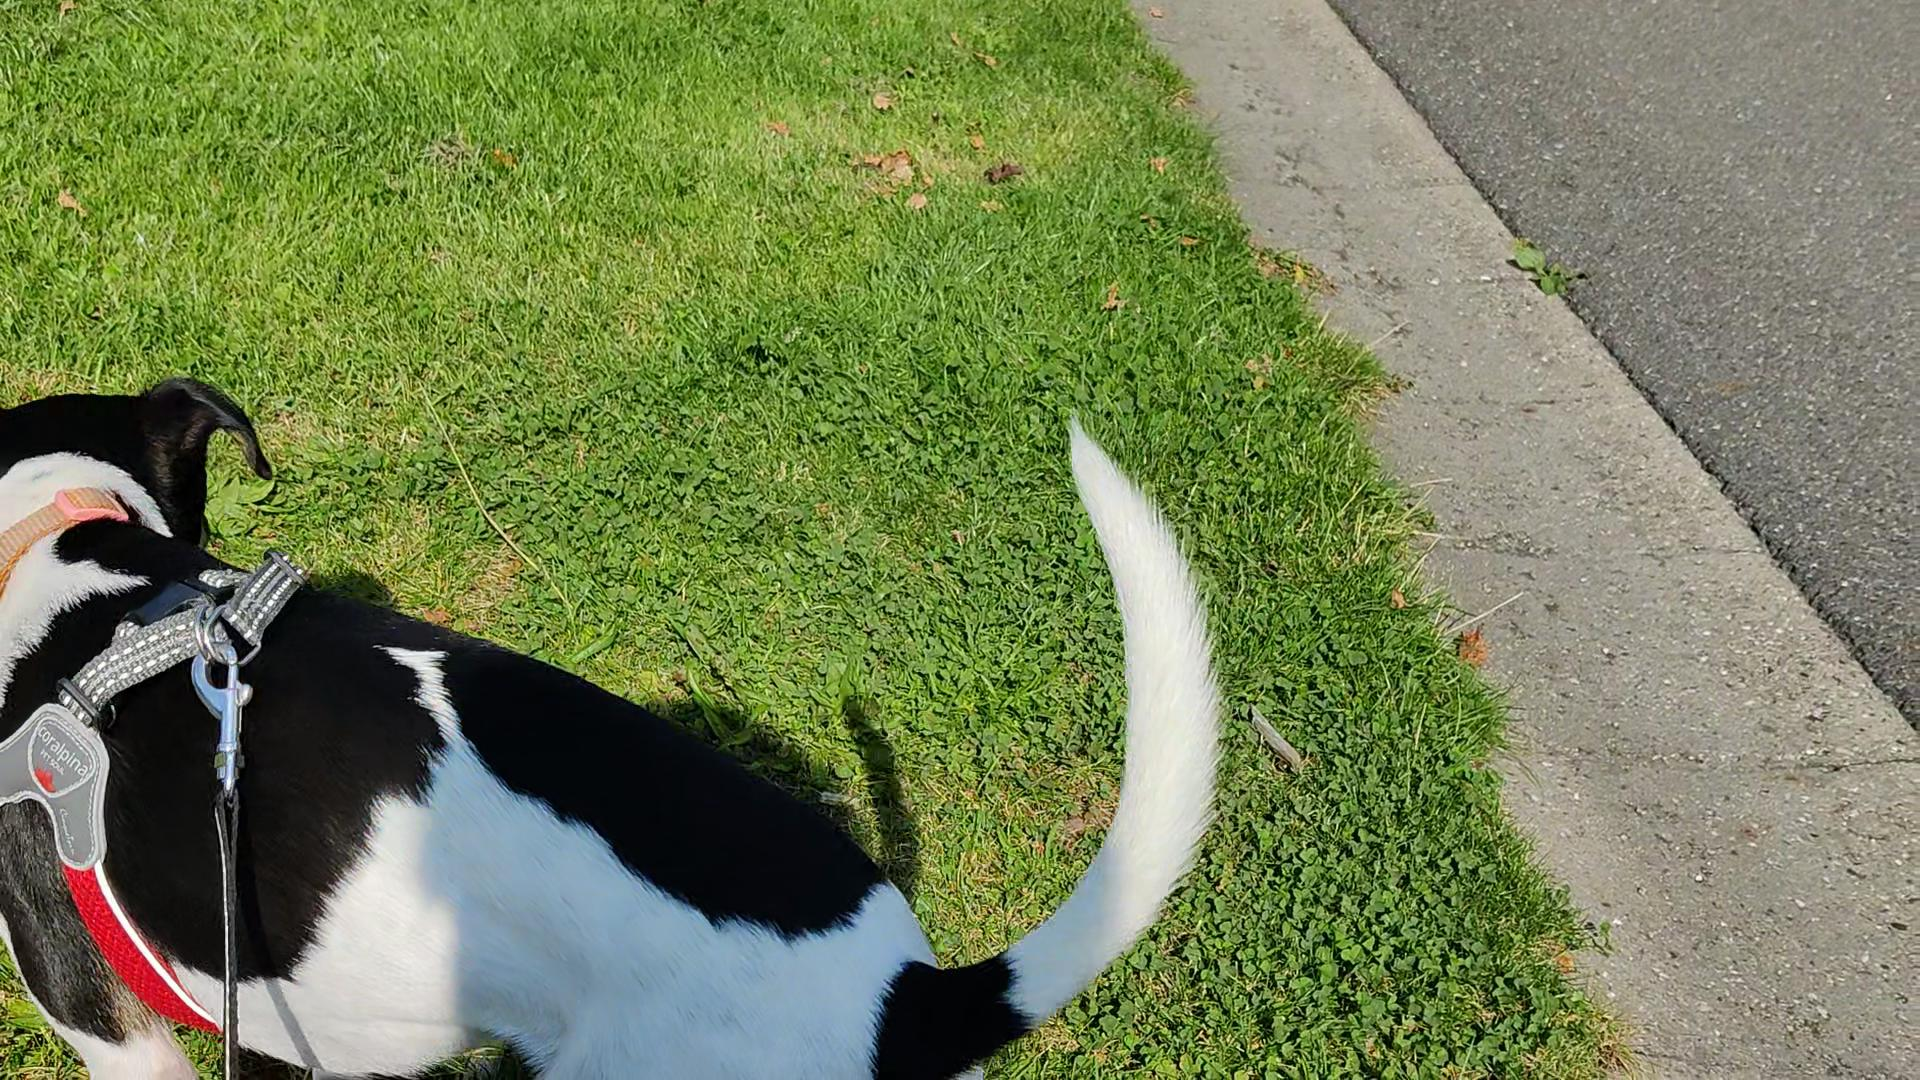Dog: (0, 375, 1246, 1079)
